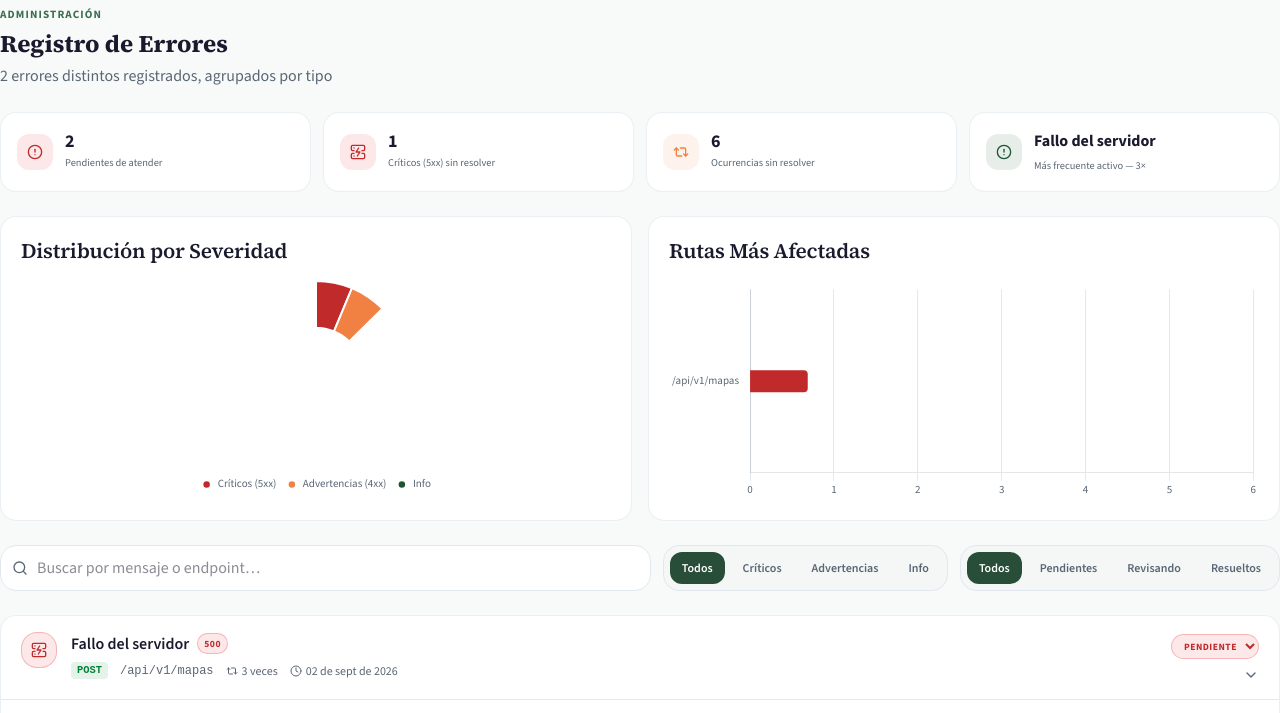
Test: Errores — filtro por severidad › volver a "Todos" restaura el listado completo
Click the button "Críticos".
click(762, 568)  # box x1=731 y1=552 x2=794 y2=584
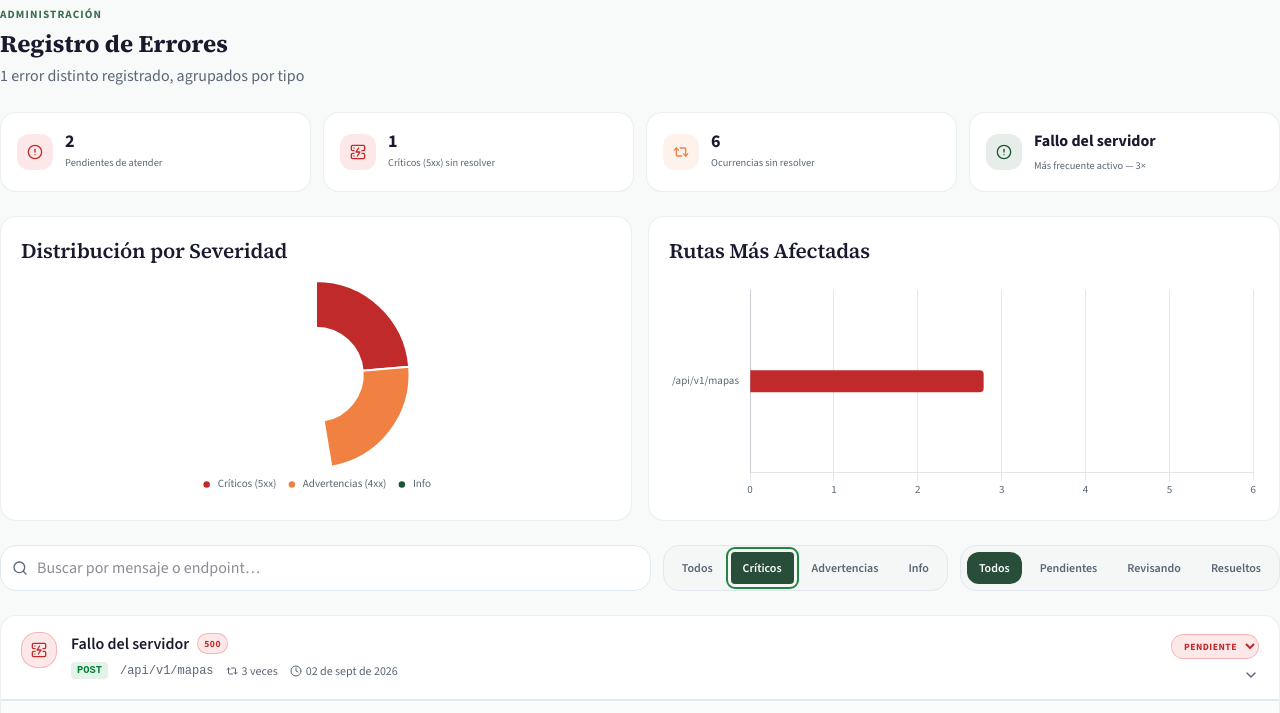
Click the 1st button "Todos".
click(697, 568)  # box x1=670 y1=552 x2=725 y2=584
(page scrolled)
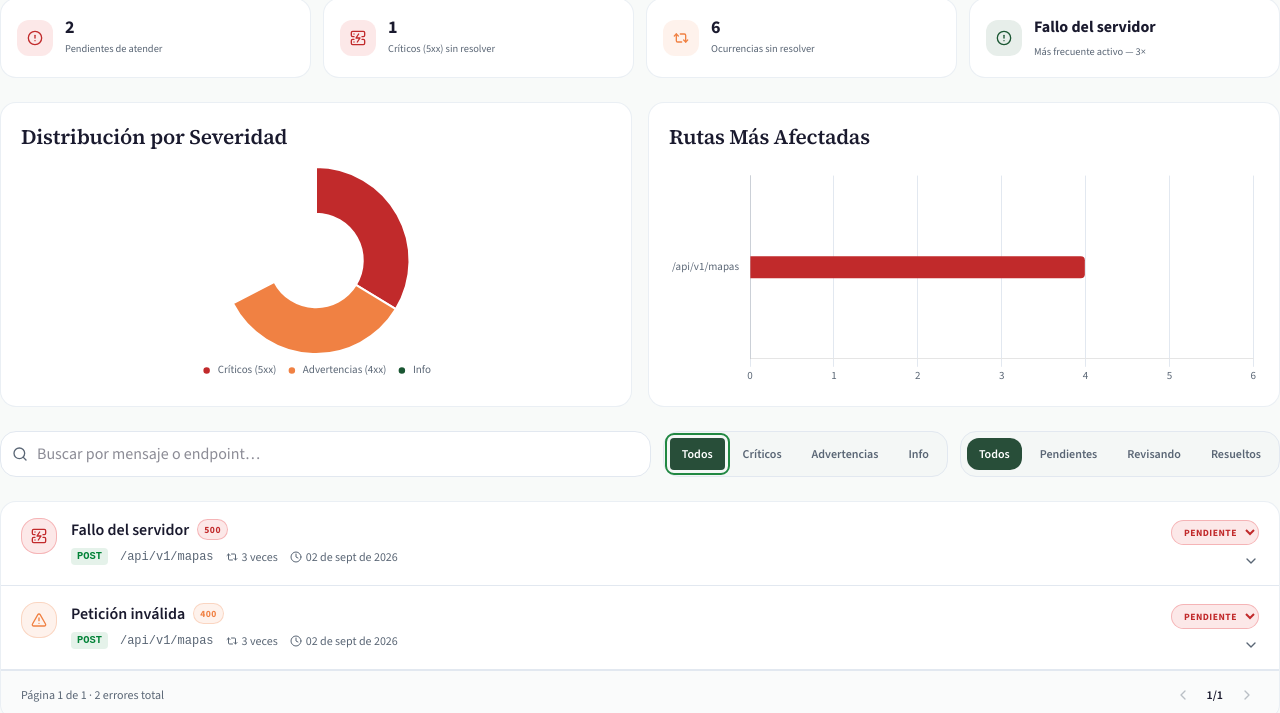
Check: the button "Petición inválida" is shown, box x1=21 y1=602 x2=1157 y2=650
